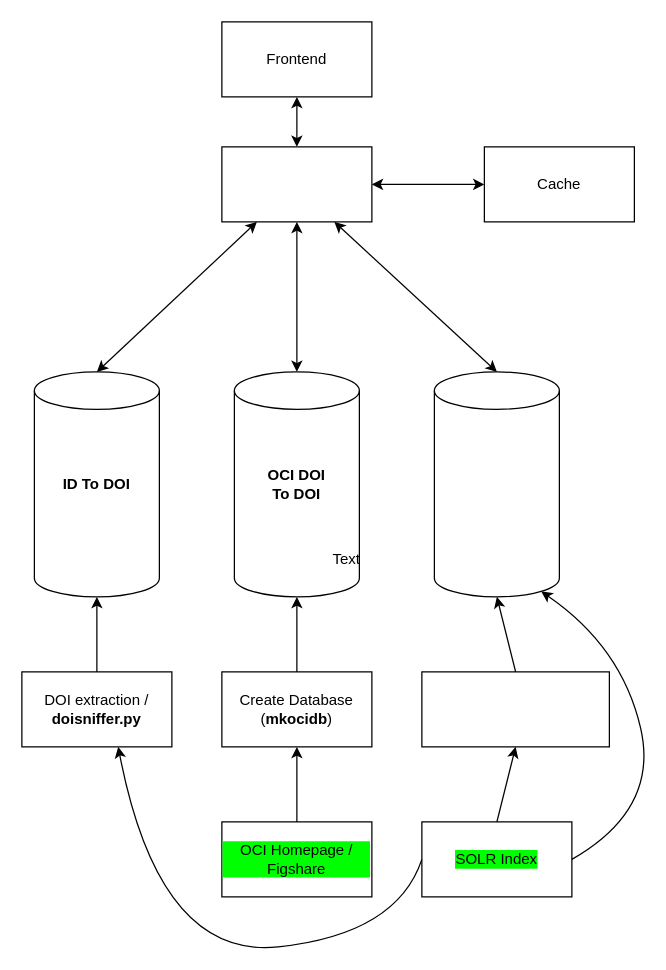
Some shapes in this 666 by 970 pixel diagram are drawn without their labels. Here are the shapes that lost their labels. From the top down, the centre of each, then its label:
At (x=296, y=184): "HTTP API ( spindel)".
At (x=496, y=484): "ID To Blob".
At (x=515, y=709): "Create Database ( microblob , sqlite3 , ...)".
